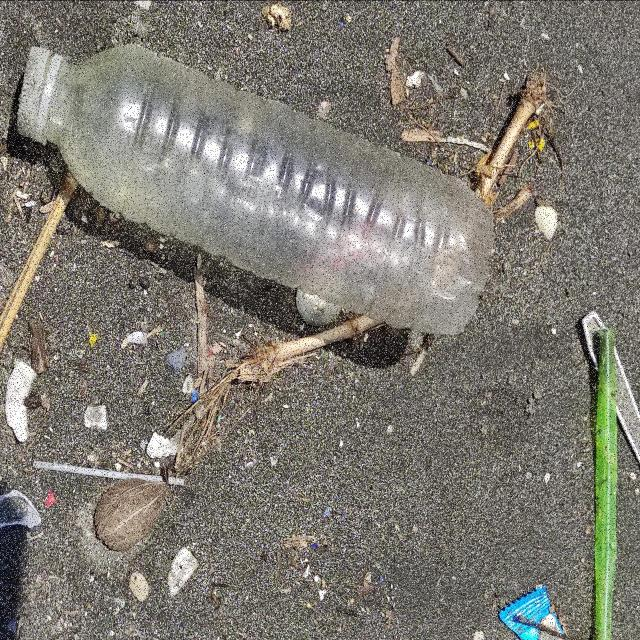plastic_waste: (18, 45, 491, 329), (595, 327, 617, 640), (498, 588, 572, 640), (34, 464, 186, 487)
